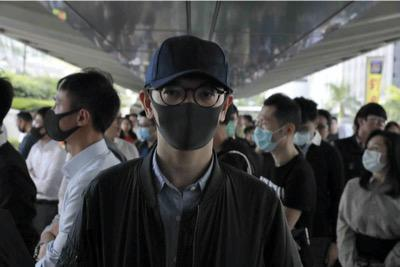with_mask: (151, 79, 221, 149), (41, 95, 77, 143), (252, 115, 284, 151), (361, 141, 388, 174), (292, 123, 313, 147), (30, 117, 44, 143), (136, 122, 151, 141)
without_mask: (362, 115, 384, 139)
